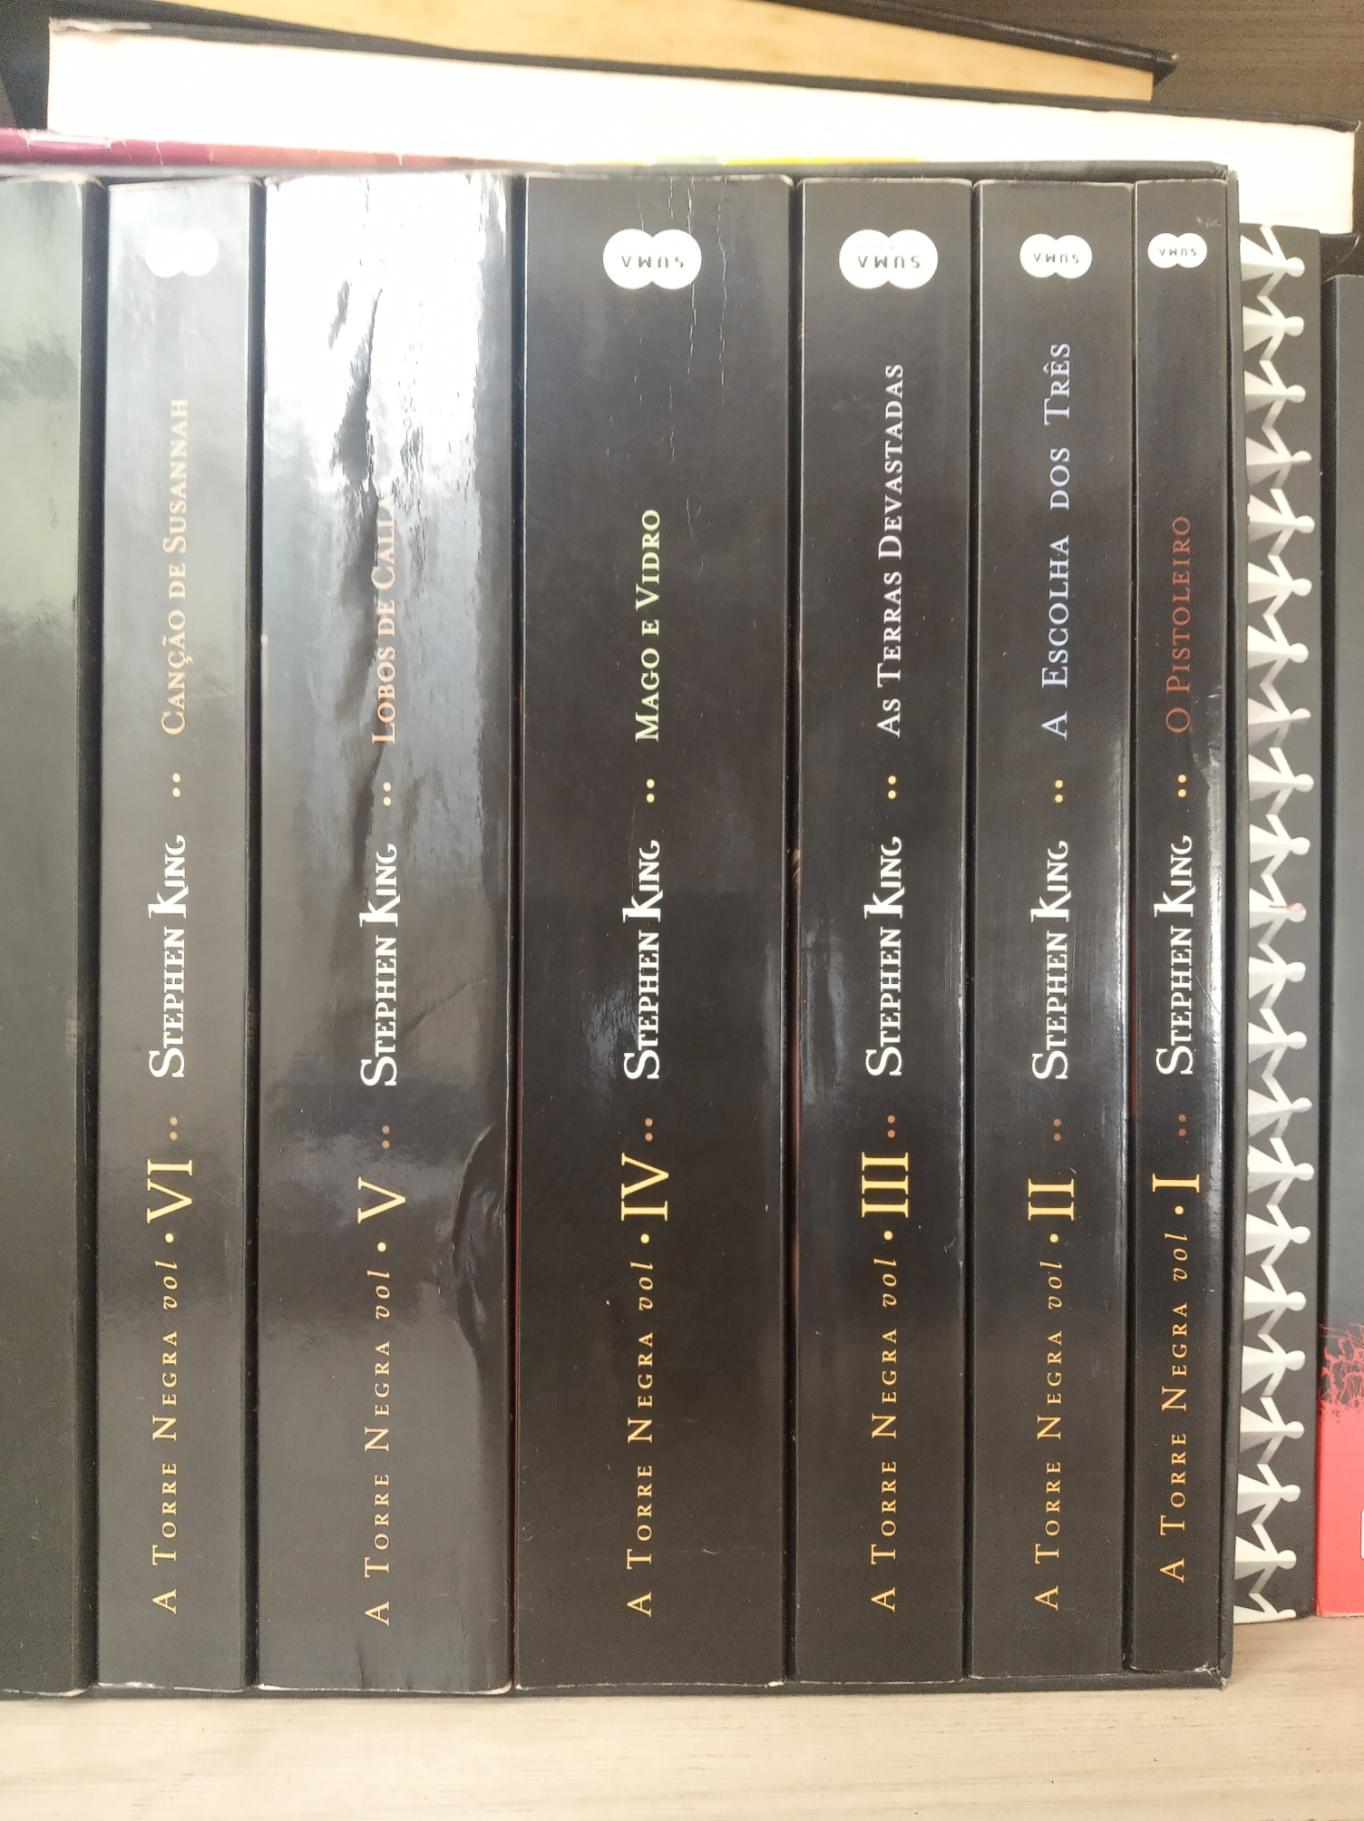book: (519, 193, 787, 1683), (264, 191, 501, 1686), (974, 188, 1123, 1673), (801, 188, 948, 1673), (110, 186, 241, 1685), (1145, 185, 1219, 1666), (1238, 234, 1312, 1615), (6, 189, 57, 1695)
